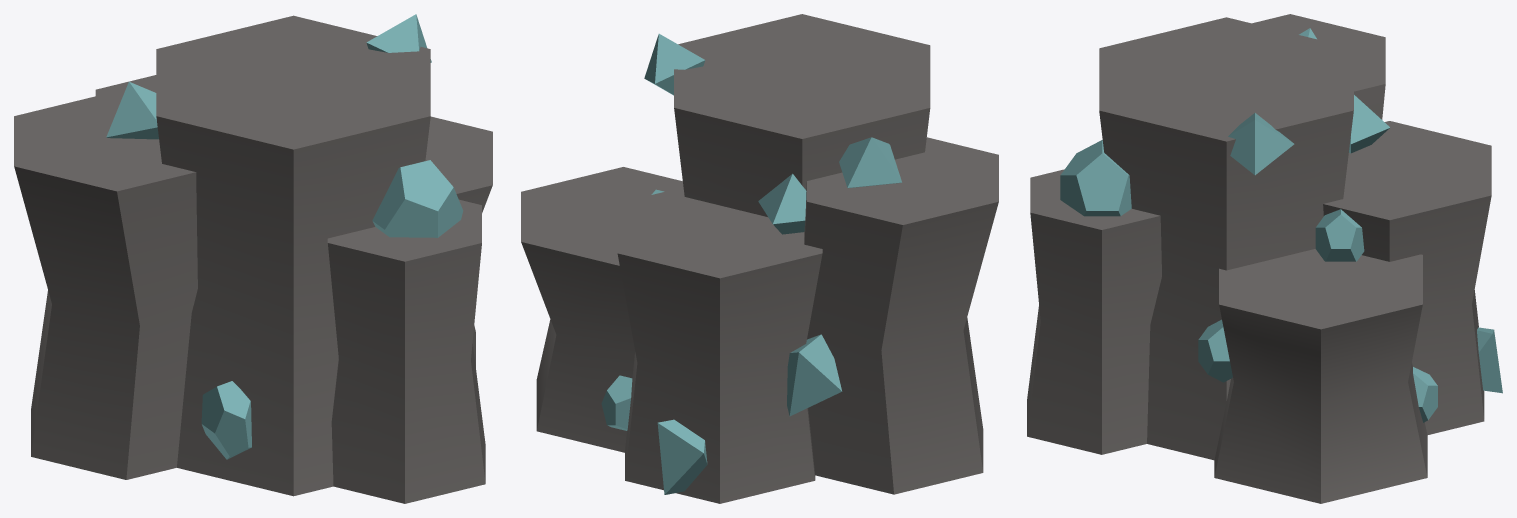
The model's file is ore_diamond.fbx.
3 renders of one model, left to right at view 1: azimuth 30°, elevation 25°; view 2: azimuth 150°, elevation 25°; view 3: azimuth 270°, elevation 25°, orthographic. The views are drawn at different scales.
Parts seen in each view (by area): view 1: pPlatonic3; view 2: pPlatonic3; view 3: pPlatonic3.
Part boxes in pixels (left/top/right/bottom): pPlatonic3: left=14, top=14, right=492, bottom=503; pPlatonic3: left=521, top=14, right=998, bottom=503; pPlatonic3: left=1027, top=14, right=1502, bottom=503.
Size of the model in its own units: 2.11 by 1.5 by 1.89.
